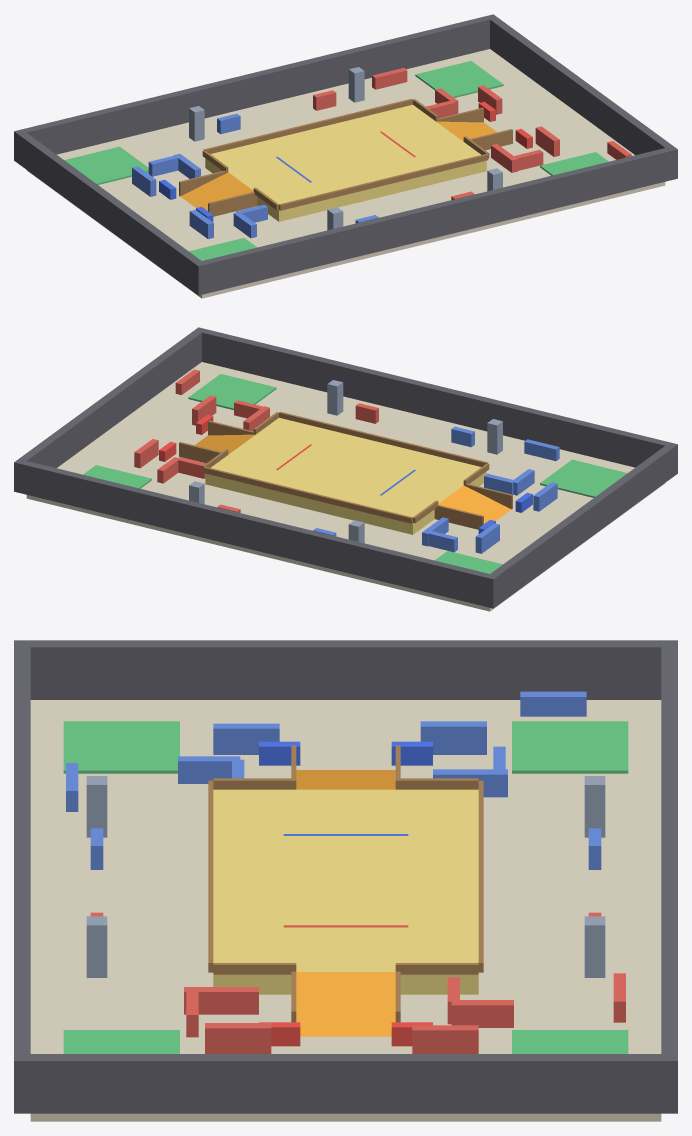
File: map_02.glb
The picture shows the model from 3 angles, top to bottom: view 1: azimuth 30°, elevation 25°; view 2: azimuth 150°, elevation 25°; view 3: azimuth 270°, elevation 25°; orthographic projection. The views are drawn at different scales.
Parts seen in each view (by area): view 1: WALKABLE_Arena_Floor, BLOCKING_Arena_Wall_South, WALKABLE_Arena_Podium, BLOCKING_Arena_Wall_North, BLOCKING_Arena_Wall_West, BLOCKING_Arena_Wall_East, WALKABLE_Arena_Dais_NE, WALKABLE_Arena_Dais_NW, BLOCKING_Arena_Parapet_S, BLOCKING_Arena_Parapet_N, WALKABLE_Arena_Ramp_West, WALKABLE_Arena_Dais_SE (+15 smaller); view 2: WALKABLE_Arena_Floor, BLOCKING_Arena_Wall_North, WALKABLE_Arena_Podium, BLOCKING_Arena_Wall_South, BLOCKING_Arena_Wall_West, BLOCKING_Arena_Wall_East, WALKABLE_Arena_Dais_SW, WALKABLE_Arena_Dais_SE, BLOCKING_Arena_Parapet_N, BLOCKING_Arena_Parapet_S, WALKABLE_Arena_Ramp_West, WALKABLE_Arena_Dais_NE (+16 smaller); view 3: WALKABLE_Arena_Floor, WALKABLE_Arena_Podium, BLOCKING_Arena_Wall_East, BLOCKING_Arena_Wall_West, BLOCKING_Arena_Wall_North, BLOCKING_Arena_Wall_South, WALKABLE_Arena_Ramp_East, WALKABLE_Arena_Dais_NW, WALKABLE_Arena_Dais_SW, WALKABLE_Arena_Dais_NE, WALKABLE_Arena_Dais_SE, BLOCKING_Arena_Cover_W_08 (+22 smaller).
Part boxes in pixels (bbox=[...]): WALKABLE_Arena_Floor: bbox=[26, 49, 665, 298]; BLOCKING_Arena_Wall_South: bbox=[194, 146, 677, 295]; WALKABLE_Arena_Podium: bbox=[205, 104, 486, 221]; BLOCKING_Arena_Wall_North: bbox=[14, 14, 497, 163]; BLOCKING_Arena_Wall_West: bbox=[18, 132, 201, 291]; BLOCKING_Arena_Wall_East: bbox=[490, 17, 672, 155]; WALKABLE_Arena_Dais_NE: bbox=[415, 61, 503, 97]; WALKABLE_Arena_Dais_NW: bbox=[64, 146, 148, 184]; BLOCKING_Arena_Parapet_S: bbox=[279, 153, 488, 210]; BLOCKING_Arena_Parapet_N: bbox=[203, 98, 412, 153]; WALKABLE_Arena_Ramp_West: bbox=[180, 172, 253, 210]; WALKABLE_Arena_Dais_SE: bbox=[540, 152, 608, 175]; WALKABLE_Arena_Floor: bbox=[26, 362, 665, 611]; BLOCKING_Arena_Wall_North: bbox=[14, 459, 497, 608]; WALKABLE_Arena_Podium: bbox=[205, 417, 486, 534]; BLOCKING_Arena_Wall_South: bbox=[194, 327, 677, 476]; BLOCKING_Arena_Wall_West: bbox=[490, 445, 673, 604]; BLOCKING_Arena_Wall_East: bbox=[19, 330, 201, 468]; WALKABLE_Arena_Dais_SW: bbox=[540, 459, 627, 497]; WALKABLE_Arena_Dais_SE: bbox=[188, 374, 276, 409]; BLOCKING_Arena_Parapet_N: bbox=[203, 466, 412, 523]; BLOCKING_Arena_Parapet_S: bbox=[279, 411, 488, 466]; WALKABLE_Arena_Ramp_West: bbox=[438, 485, 511, 523]; WALKABLE_Arena_Dais_NE: bbox=[83, 465, 151, 488]; WALKABLE_Arena_Floor: bbox=[30, 700, 661, 1121]; WALKABLE_Arena_Podium: bbox=[213, 789, 478, 994]; BLOCKING_Arena_Wall_East: bbox=[30, 1054, 661, 1113]; BLOCKING_Arena_Wall_West: bbox=[30, 640, 661, 699]; BLOCKING_Arena_Wall_North: bbox=[661, 640, 677, 1113]; BLOCKING_Arena_Wall_South: bbox=[14, 640, 30, 1113]; WALKABLE_Arena_Ramp_East: bbox=[296, 972, 395, 1036]; WALKABLE_Arena_Dais_NW: bbox=[512, 721, 628, 773]; WALKABLE_Arena_Dais_SW: bbox=[63, 721, 179, 773]; WALKABLE_Arena_Dais_NE: bbox=[512, 1030, 628, 1053]; WALKABLE_Arena_Dais_SE: bbox=[63, 1030, 179, 1053]; BLOCKING_Arena_Cover_W_08: bbox=[420, 721, 486, 754].
Size of the model in its own units: 120 by 9 by 80.
